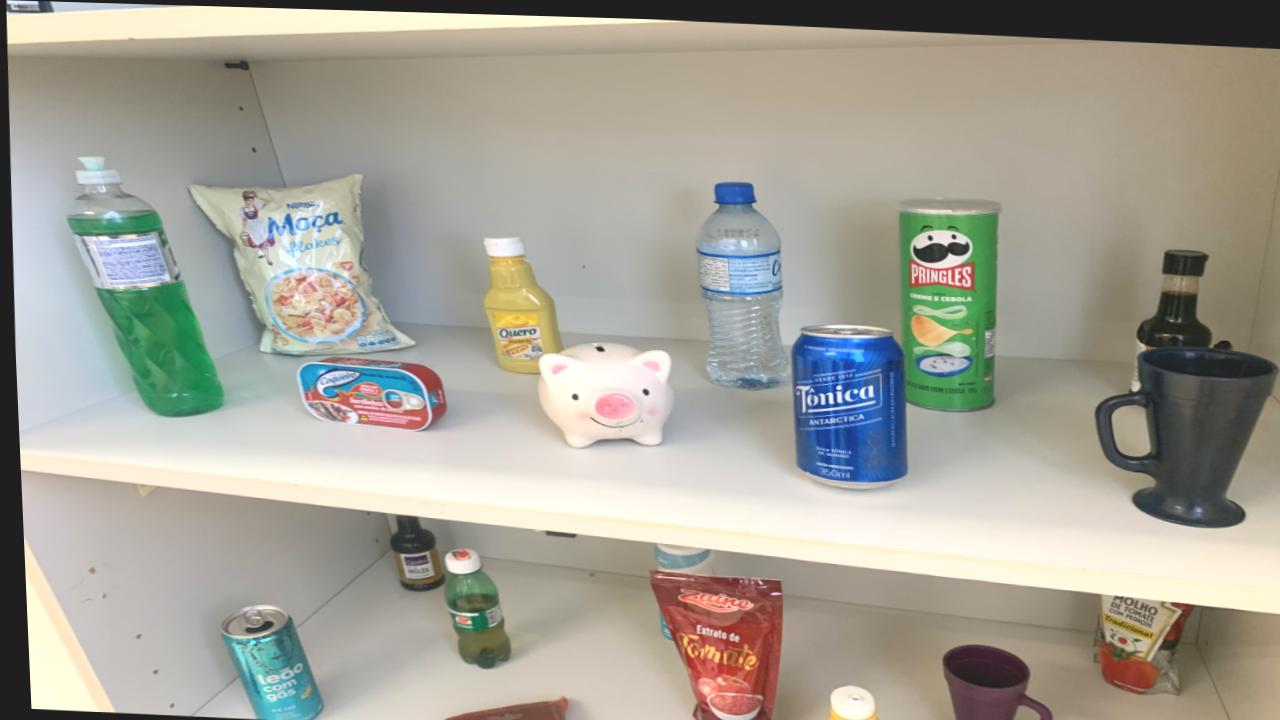Cleaner-Cleanup_Items: (648, 540, 711, 572), (654, 609, 667, 638)
Detergent-Cleanup_Items: (65, 157, 221, 416)
English_Sauce-Pantry_Items: (1132, 242, 1209, 350), (385, 512, 439, 588)
Flakes-Snacks: (187, 172, 412, 354)
Guarana-Drinks: (438, 546, 505, 666)
Guava-Snacks: (436, 693, 561, 720)
Mustard-Pantry_Items: (481, 234, 560, 370), (823, 680, 874, 720)
Pig_Safe-Miscellaneous: (535, 339, 671, 445)
Pringles-Snacks: (897, 192, 1000, 406)
Tea-Drinks: (217, 604, 316, 720)
Tomato_Sauce-Pantry_Items: (646, 566, 777, 720), (1089, 588, 1186, 688)
Tonic-Drinks: (789, 320, 904, 484)
Tuna_Can-Pantry_Items: (295, 354, 443, 429)
Water_Bottle-Drinks: (695, 178, 785, 385)
